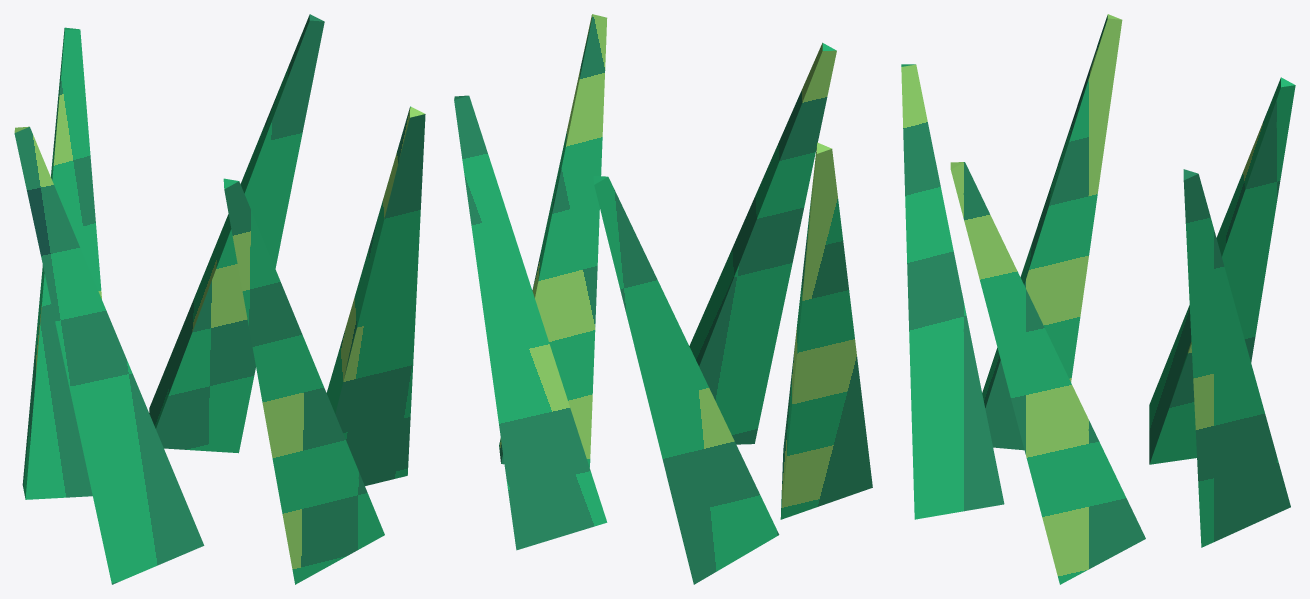
File: r01_erva.glb
3 views of the same model, side by side, from view 1: azimuth 30°, elevation 25°; view 2: azimuth 150°, elevation 25°; view 3: azimuth 270°, elevation 25° (orthographic). The views are drawn at different scales.
Visible parts, largest first — view 1: r01_erva; view 2: r01_erva; view 3: r01_erva.
Boxes of the visible parts, box(x1,y1,x2,y2) form: r01_erva: box(14, 14, 425, 584); r01_erva: box(454, 14, 872, 584); r01_erva: box(901, 14, 1295, 584).
Size of the model in its own units: 0.4083 by 0.4502 by 0.3937.
1 material, 1 textured.
